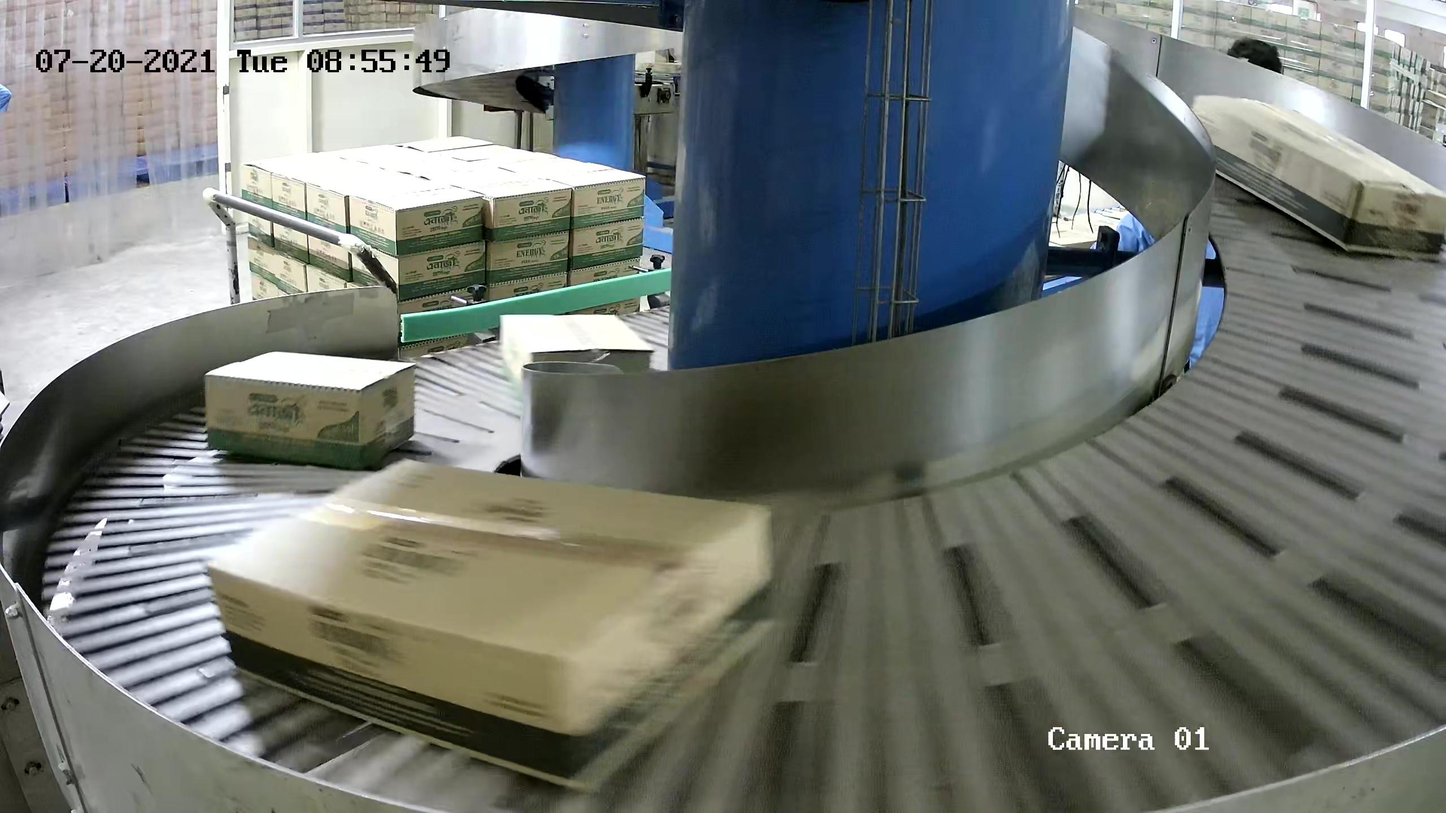Box: (203, 453, 783, 801), (1185, 89, 1446, 264), (203, 348, 419, 474), (498, 311, 658, 402)
